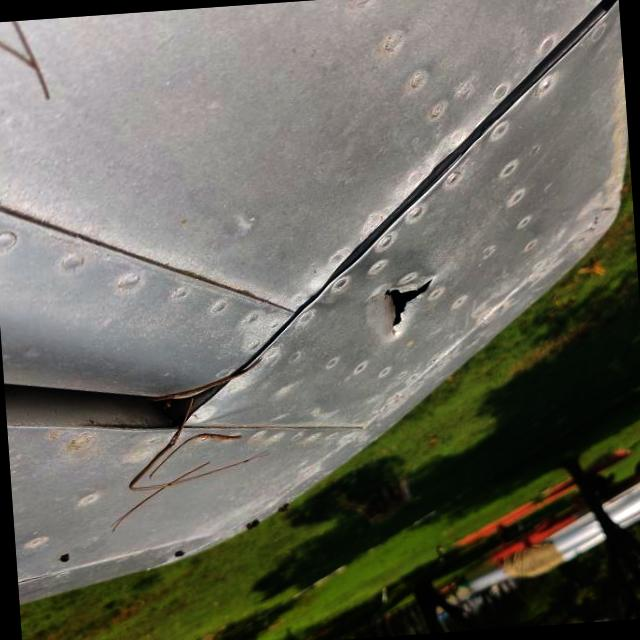crack: (366, 266, 451, 348)
